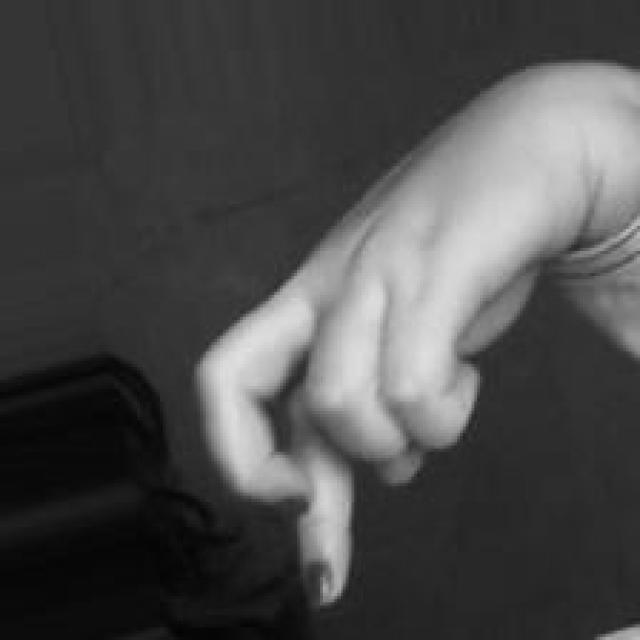P: (188, 154, 558, 607)
